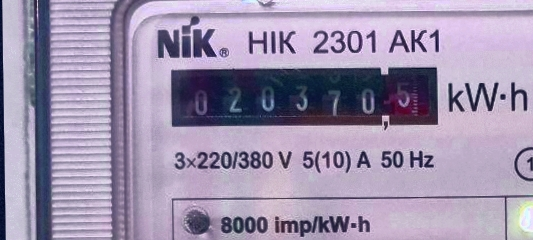0: (358, 85, 377, 116), (191, 86, 209, 115), (259, 83, 275, 111)
2: (225, 83, 244, 115)
3: (292, 81, 309, 112)
5: (394, 78, 413, 109)
7: (325, 87, 341, 117)
screen: (163, 58, 446, 138)
